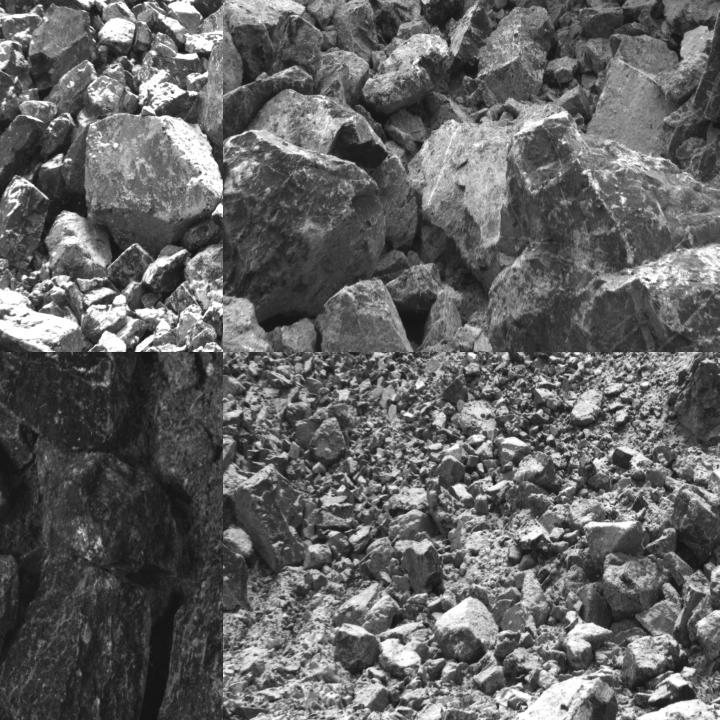stone: (487, 113, 719, 351), (223, 129, 390, 317), (0, 550, 152, 719), (408, 108, 549, 288), (36, 438, 188, 576), (84, 118, 221, 243), (0, 352, 140, 452), (137, 571, 222, 719), (588, 36, 683, 154), (252, 91, 388, 169), (455, 4, 555, 108), (318, 275, 426, 351), (234, 464, 306, 568), (364, 33, 453, 115), (27, 3, 92, 90), (505, 674, 619, 719), (0, 175, 53, 270), (0, 111, 47, 208), (431, 595, 499, 660), (267, 16, 325, 90), (49, 212, 114, 278), (603, 552, 665, 618), (0, 306, 84, 351), (196, 39, 222, 180), (582, 521, 646, 577), (673, 487, 719, 564), (622, 636, 689, 686), (0, 543, 20, 709), (335, 583, 399, 633), (223, 291, 271, 351), (141, 71, 200, 119), (332, 0, 376, 62), (84, 75, 140, 120), (397, 538, 442, 593), (0, 70, 43, 127), (365, 0, 423, 41), (562, 624, 616, 668), (186, 245, 222, 309), (640, 583, 682, 637), (143, 244, 189, 292), (512, 449, 562, 493), (223, 537, 250, 612), (105, 245, 152, 286), (334, 624, 378, 667), (310, 415, 346, 465), (3, 0, 107, 17), (0, 39, 35, 82), (379, 639, 422, 673), (97, 18, 135, 56), (694, 604, 719, 660), (388, 509, 432, 540), (579, 4, 623, 34), (497, 434, 532, 470), (168, 0, 202, 35), (572, 386, 603, 424), (223, 523, 255, 557), (223, 431, 240, 492), (421, 0, 462, 23), (707, 459, 719, 502), (709, 563, 719, 610)
